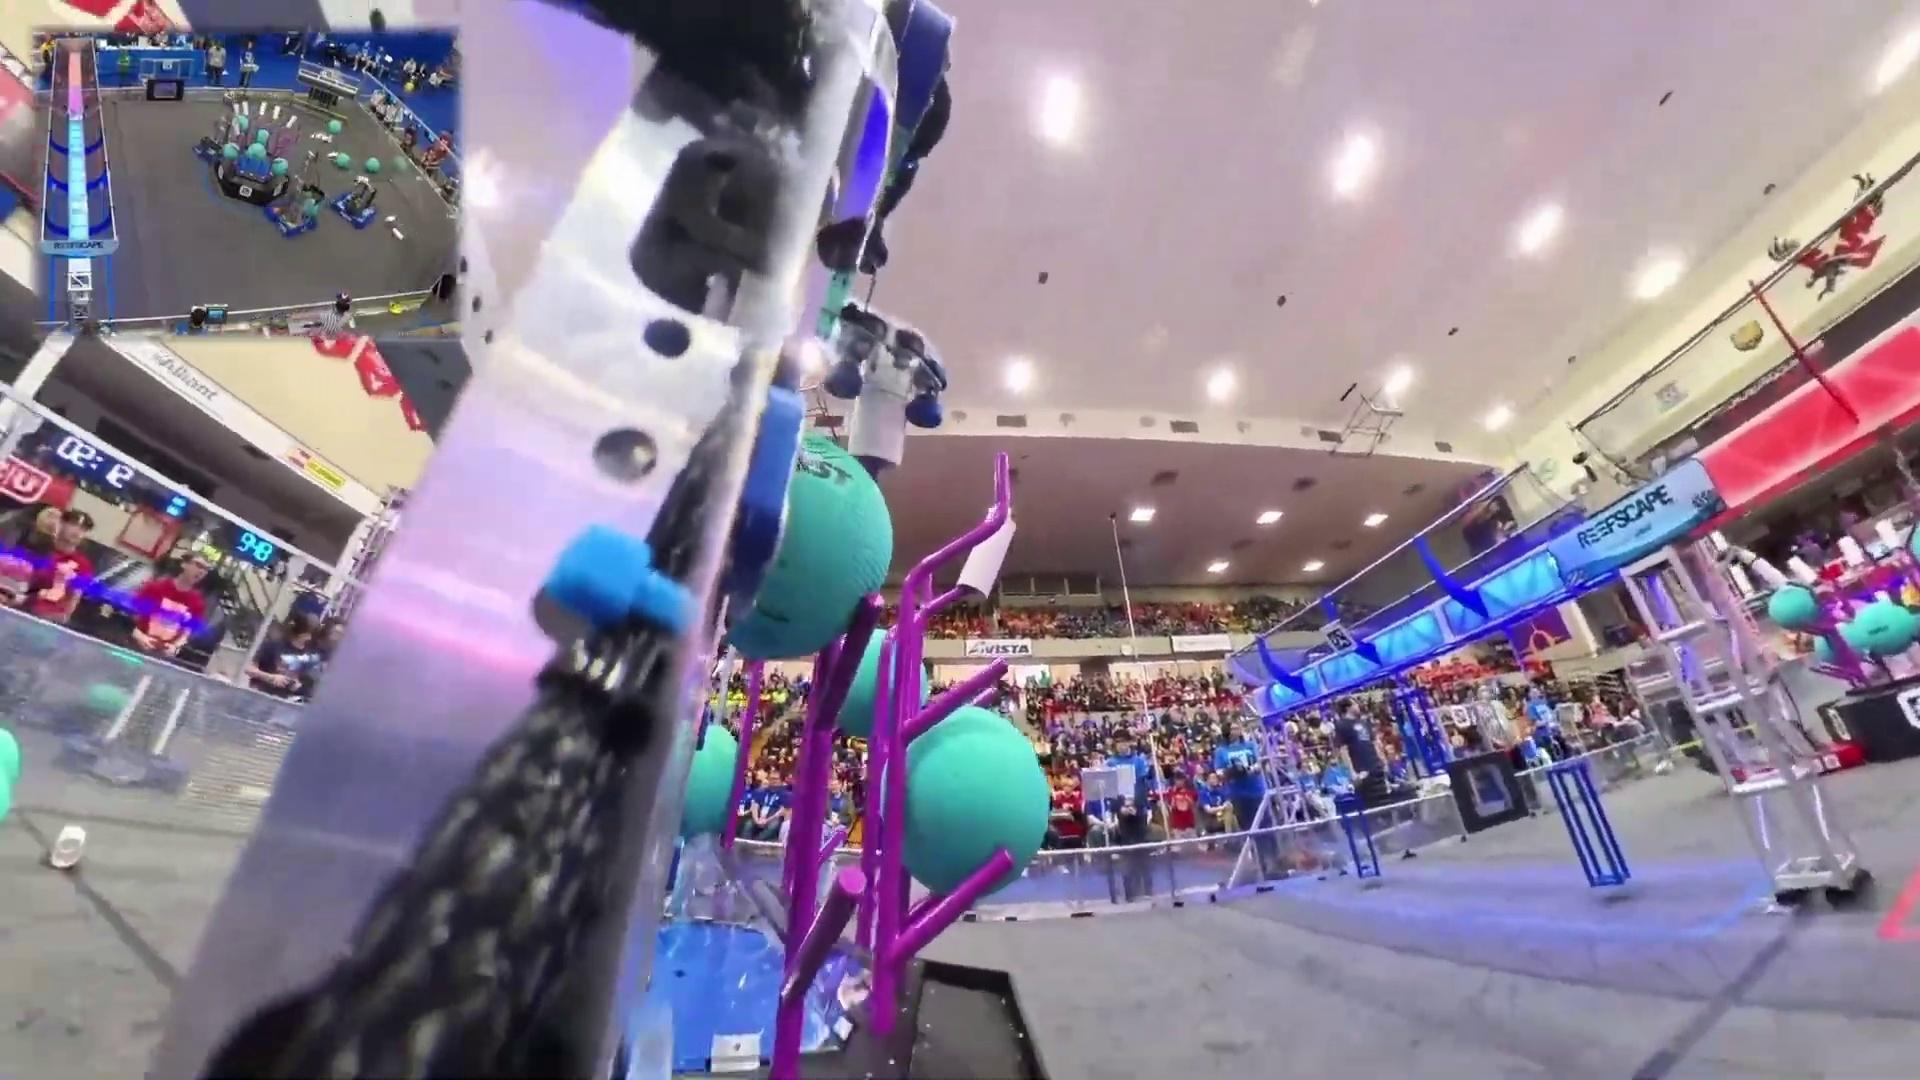robot: (1721, 737, 1862, 795), (266, 153, 319, 240), (194, 90, 233, 166), (330, 177, 378, 228)
